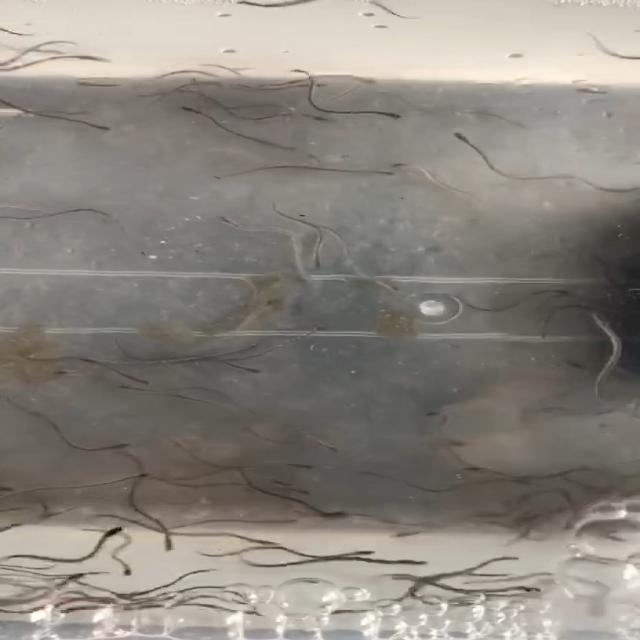active_glass_eel: (313, 598, 394, 624), (349, 280, 427, 306), (58, 81, 133, 104), (224, 534, 288, 558), (75, 118, 134, 144), (326, 69, 386, 92), (374, 103, 423, 131), (523, 358, 589, 378), (376, 547, 439, 567), (56, 572, 145, 586), (504, 583, 564, 602), (279, 461, 350, 477), (220, 362, 288, 378), (306, 439, 363, 458), (292, 322, 351, 340), (439, 128, 486, 150), (357, 154, 389, 186), (102, 560, 162, 577), (161, 535, 199, 560), (339, 540, 376, 565), (226, 342, 284, 357), (67, 53, 129, 67), (240, 300, 294, 316), (174, 104, 222, 122), (116, 382, 172, 397), (218, 212, 260, 232), (302, 107, 336, 131), (112, 471, 161, 487), (316, 504, 362, 521), (121, 369, 164, 387), (408, 409, 480, 419), (86, 525, 141, 538), (106, 591, 160, 604), (458, 464, 502, 478), (283, 486, 330, 499), (218, 0, 268, 11), (298, 256, 332, 272), (382, 160, 416, 176), (38, 370, 87, 380), (105, 438, 140, 451), (0, 514, 19, 530)
